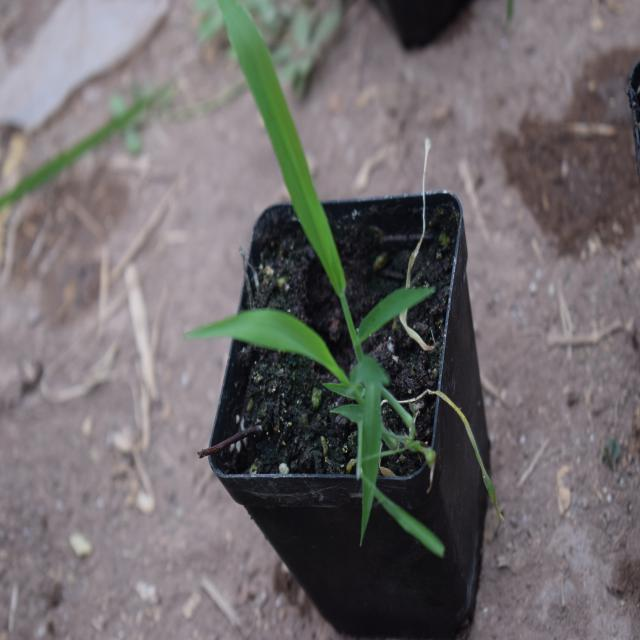crabgrass: (201, 9, 438, 514)
